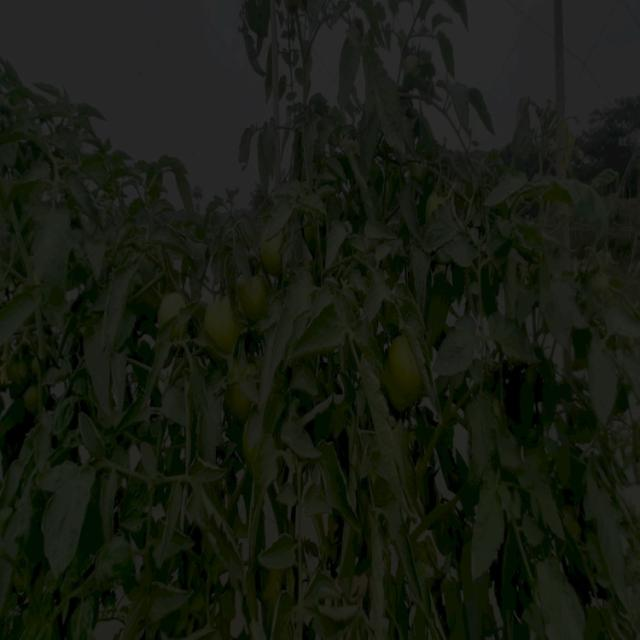tomato: (387, 337, 423, 403), (207, 296, 248, 349), (239, 270, 277, 316), (224, 383, 256, 416), (257, 563, 285, 597), (258, 226, 283, 259), (159, 289, 184, 317), (424, 191, 450, 217), (22, 386, 43, 414), (591, 271, 611, 298), (11, 359, 26, 382)
